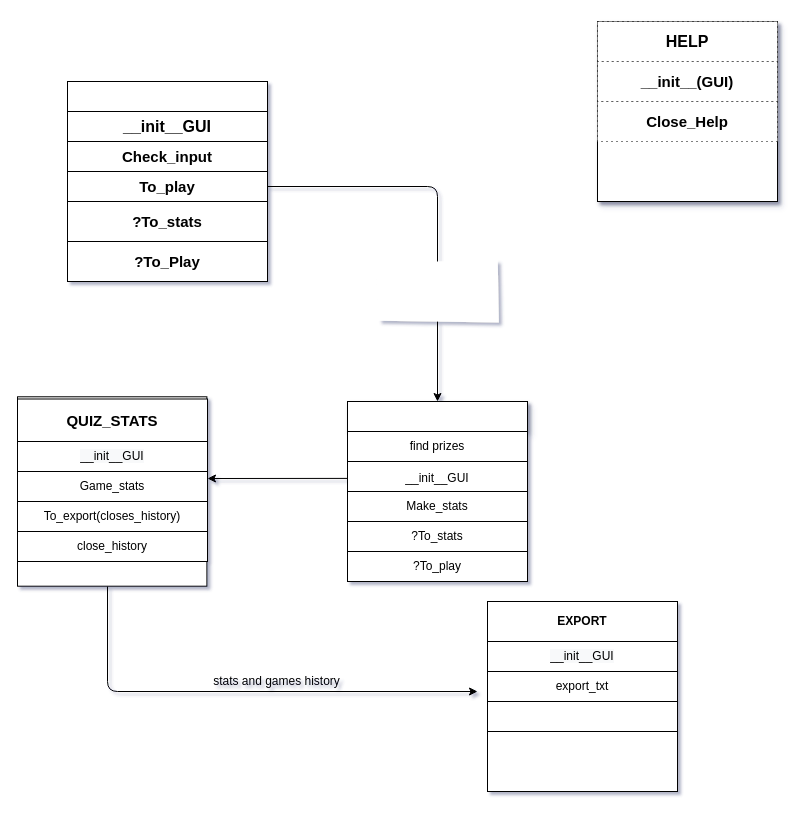
This 807x815 diagram has some shape labels left out. The shapes that lost their labels are listed below. From the top down, each one's centre as x and y in pixels, then its label:
At (x=167, y=96): "Start".
At (x=437, y=291): "Number of questions low number high number".
At (x=438, y=417): "QUIZ".
At (x=582, y=716): "Close_export".
